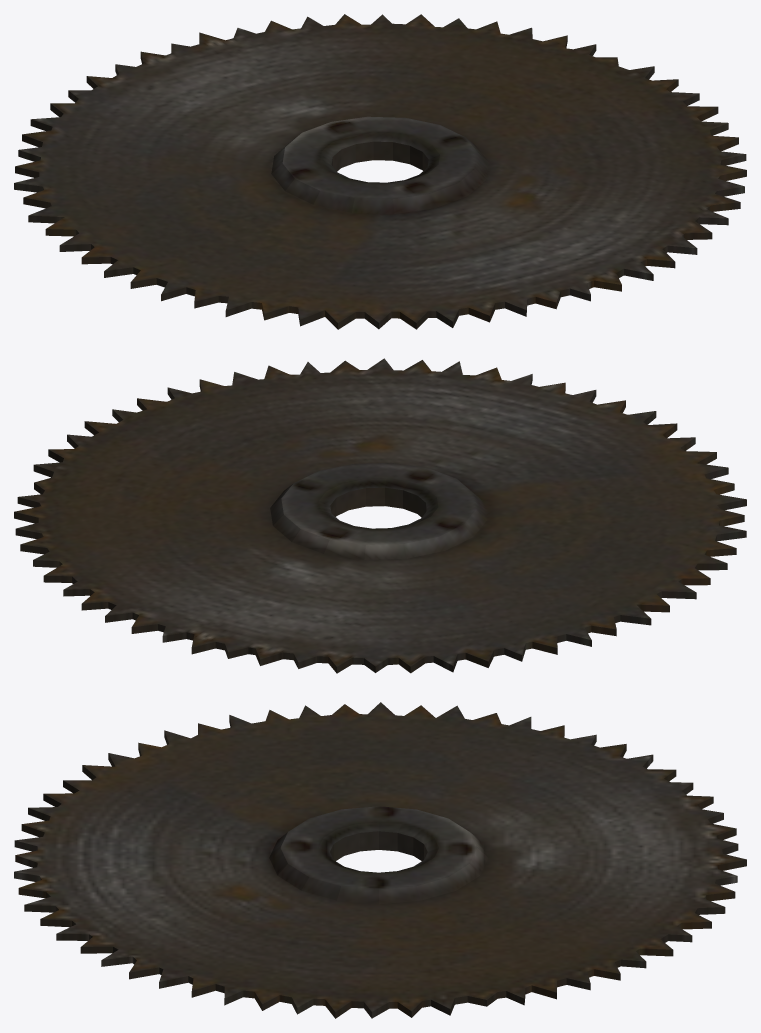
Rendered from saw_blade_1.obj.
3 views of the same model, one above another, from view 1: azimuth 30°, elevation 25°; view 2: azimuth 150°, elevation 25°; view 3: azimuth 270°, elevation 25° (orthographic).
Visible parts, largest first — view 1: saw_blade_1; view 2: saw_blade_1; view 3: saw_blade_1.
Boxes of the visible parts, box(x1,y1,x2,y2) form: saw_blade_1: box(14, 14, 746, 329); saw_blade_1: box(14, 358, 746, 673); saw_blade_1: box(14, 702, 746, 1018).
Size of the model in its own units: 0.5934 by 0.024 by 0.5927.
